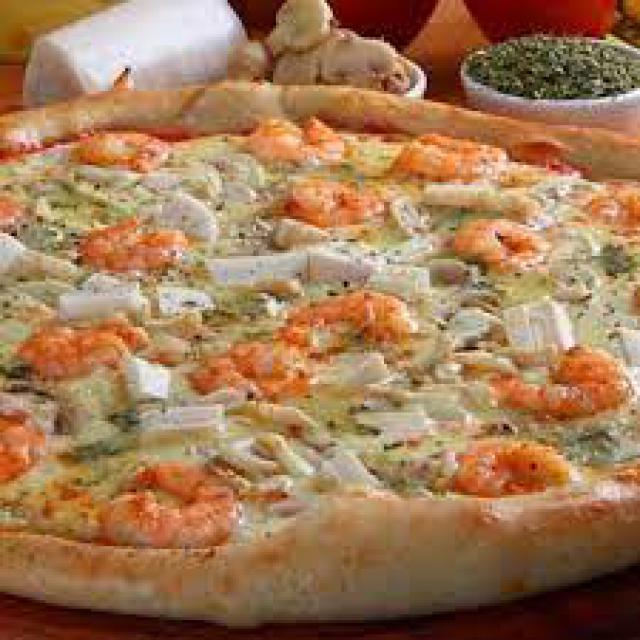camarao: (97, 459, 245, 549), (489, 342, 634, 420), (268, 286, 415, 352), (454, 433, 571, 496), (70, 214, 191, 274), (391, 128, 506, 180), (284, 179, 383, 229), (452, 216, 543, 268)
pizza: (0, 82, 637, 608)
